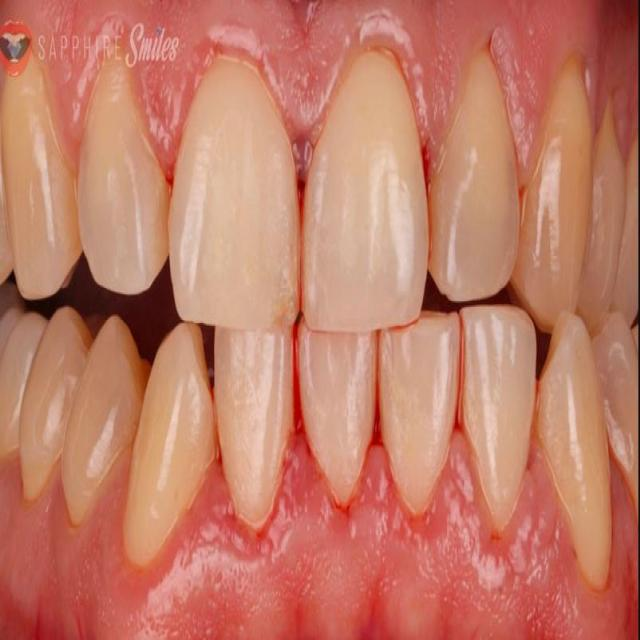1st Molar: (0, 309, 46, 451)
1st Premolar: (60, 316, 149, 524), (580, 100, 625, 328), (594, 309, 640, 486)
2nd Premolar: (19, 308, 93, 502), (614, 139, 638, 323)
Canine: (123, 323, 217, 572), (511, 55, 592, 330), (535, 317, 614, 593), (1, 49, 82, 301)
Central Incisor: (167, 53, 299, 333), (301, 52, 429, 335), (378, 316, 460, 519), (297, 332, 378, 514)
Lateral Incisor: (429, 48, 520, 304), (77, 60, 168, 297), (461, 305, 538, 531), (213, 330, 294, 532)
